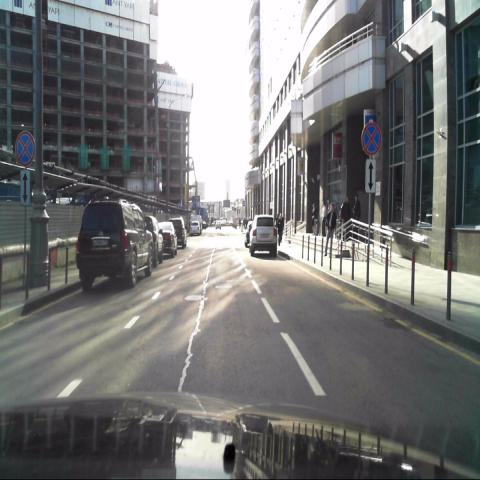8_2_4: (19, 169, 30, 208), (365, 156, 376, 193)
